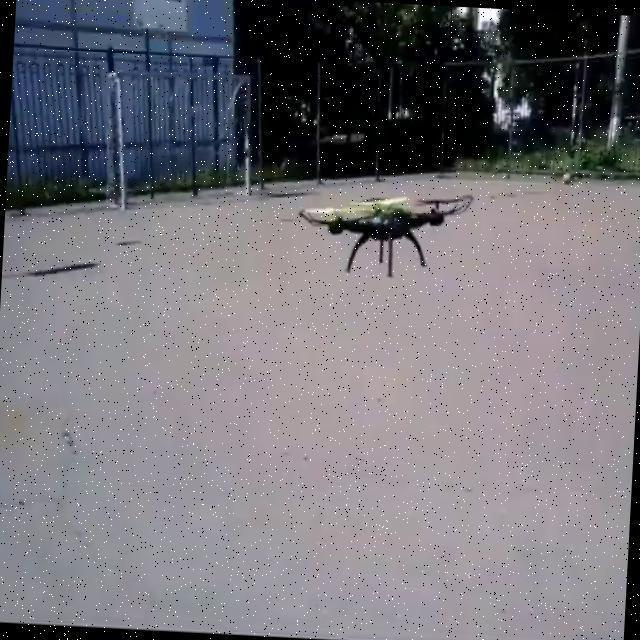Drons: (290, 183, 476, 287)
